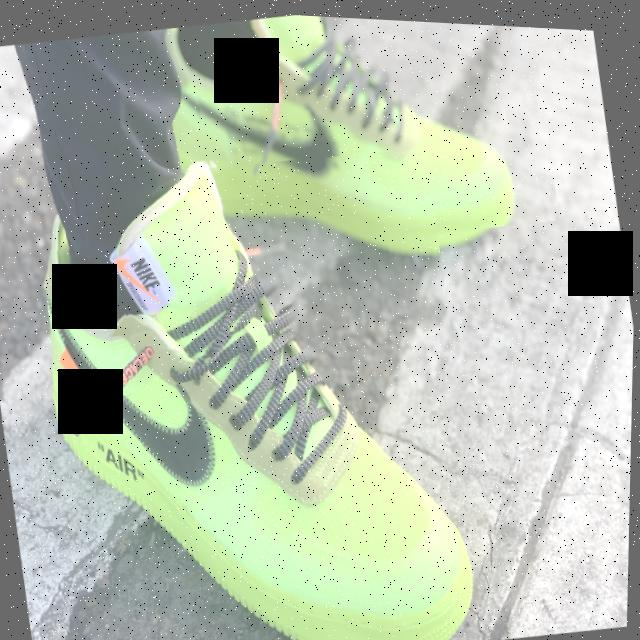shoe: (0, 119, 505, 640), (180, 7, 564, 269)
